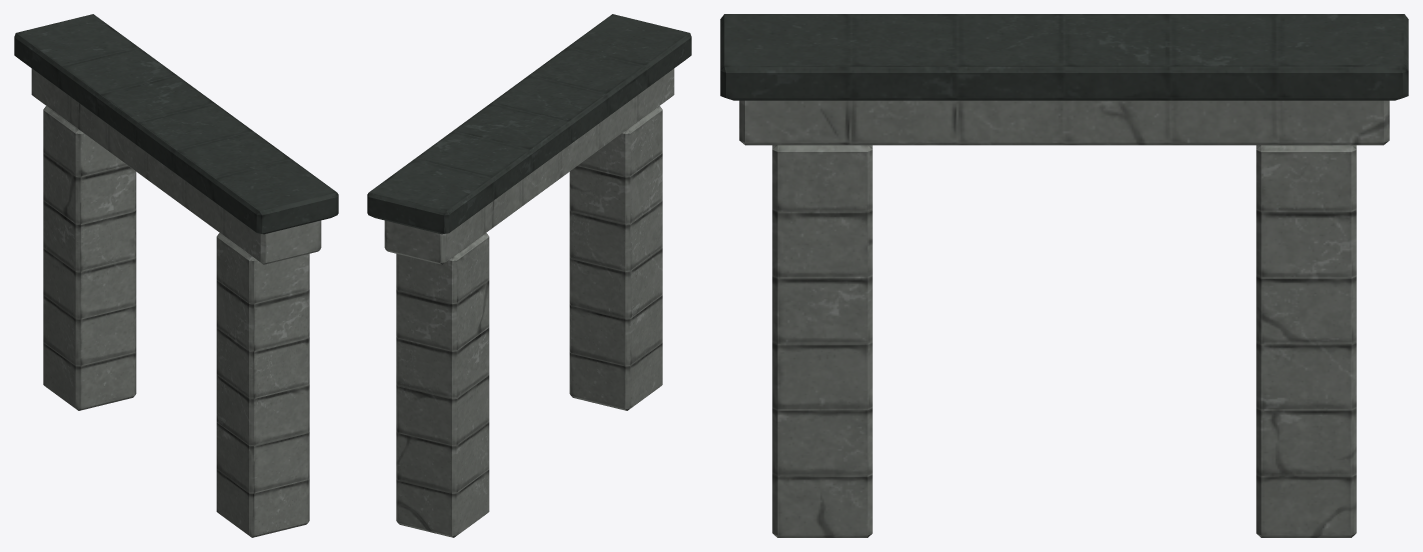
File: entrance.fbx
3 views of the same model, side by side, from view 1: azimuth 30°, elevation 25°; view 2: azimuth 150°, elevation 25°; view 3: azimuth 270°, elevation 25° (orthographic). The views are drawn at different scales.
Visible parts, largest first — view 1: Box330; view 2: Box330; view 3: Box330.
Boxes of the visible parts, left/top/right/bottom form: Box330: left=14, top=14, right=338, bottom=537; Box330: left=367, top=14, right=691, bottom=537; Box330: left=720, top=14, right=1408, bottom=537.
Size of the model in its own units: 86.11 by 345 by 449.
